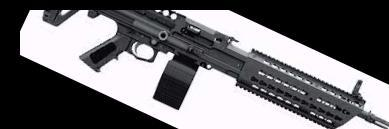larga: (42, 10, 389, 129)
